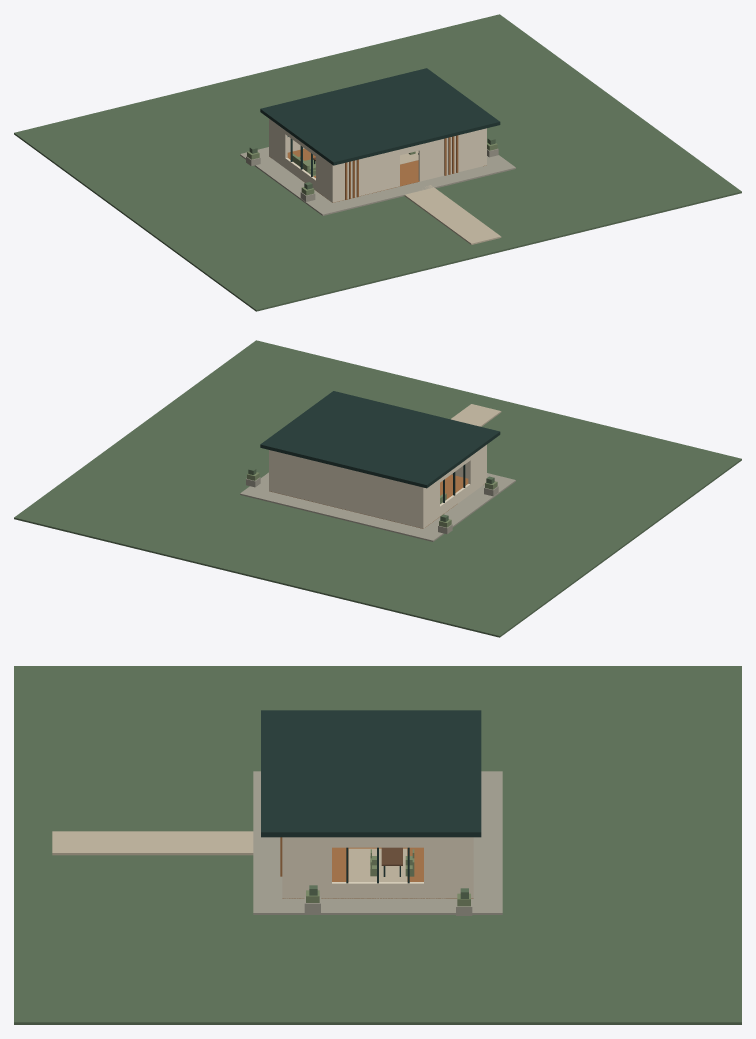
The model's file is pavilion.glb.
3 views of the same model, one above another, from view 1: azimuth 30°, elevation 25°; view 2: azimuth 150°, elevation 25°; view 3: azimuth 270°, elevation 25° (orthographic). The views are drawn at different scales.
Visible parts, largest first — view 1: Site, Roof, Entry wall (×2), Terrace, Entrance pathway, Side wall (×2), Interior floor; view 2: Site, Roof, Back wall, Terrace, Side wall (×2), Entrance pathway, Interior floor; view 3: Site, Roof, Terrace, Side wall (×2), Entrance pathway, Window sill, Woven rug, Interior floor, Window header.
Part boxes in pixels (<box>): Site: <box>14,14,741,311</box>; Roof: <box>260,68,500,165</box>; Entry wall (×2): <box>331,128,486,202</box>; Terrace: <box>240,147,515,215</box>; Entrance pathway: <box>404,185,501,244</box>; Side wall (×2): <box>269,119,331,201</box>; Interior floor: <box>269,148,486,202</box>; Site: <box>14,340,741,637</box>; Roof: <box>260,391,500,488</box>; Back wall: <box>269,450,424,528</box>; Terrace: <box>240,472,515,541</box>; Side wall (×2): <box>424,445,486,527</box>; Entrance pathway: <box>451,404,501,426</box>; Interior floor: <box>269,474,468,528</box>; Site: <box>14,666,741,1024</box>; Roof: <box>261,710,481,837</box>; Terrace: <box>253,771,502,914</box>; Side wall (×2): <box>284,837,471,898</box>; Entrance pathway: <box>52,831,253,855</box>; Window sill: <box>332,882,423,898</box>; Woven rug: <box>348,848,407,881</box>; Interior floor: <box>282,847,473,898</box>; Window header: <box>332,837,423,847</box>.
Size of the model in its own units: 44 by 4.34 by 38.
